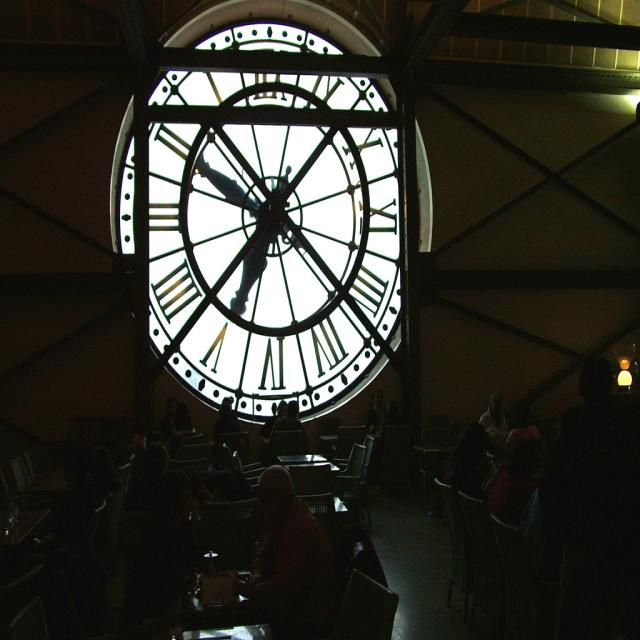People: (245, 486, 397, 640), (76, 431, 144, 609), (140, 400, 197, 548), (497, 418, 551, 572), (216, 378, 273, 514), (261, 366, 319, 477)
chair: (342, 420, 395, 489), (440, 499, 494, 566), (420, 443, 448, 522)
